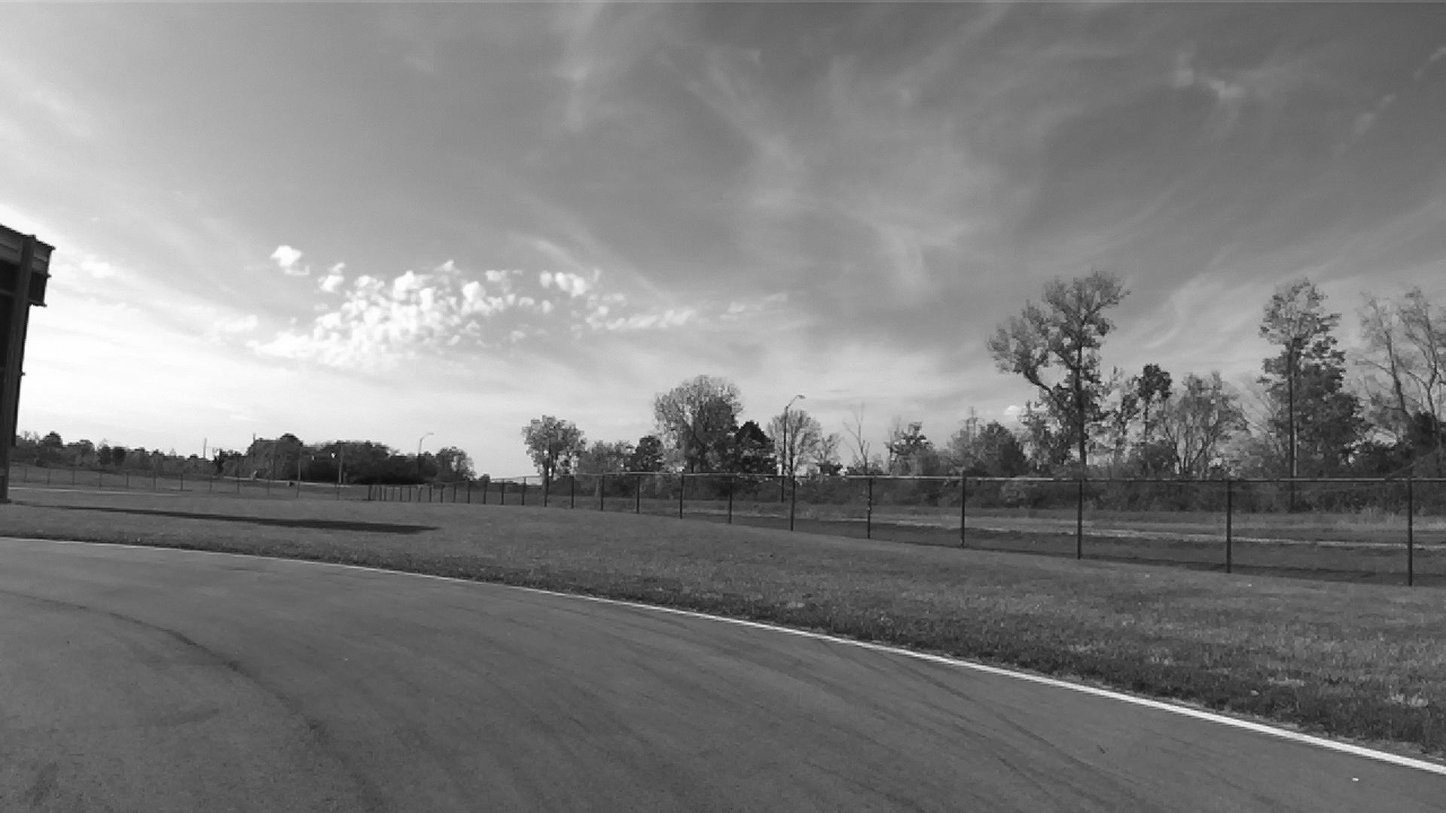white-line: (0, 537, 1445, 778)
